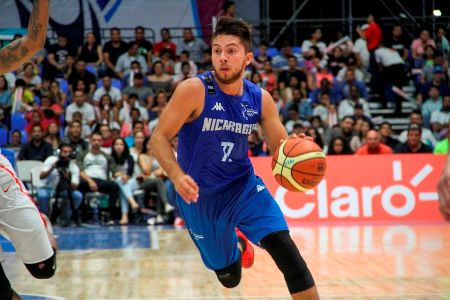baloncesto: (272, 138, 327, 192)
